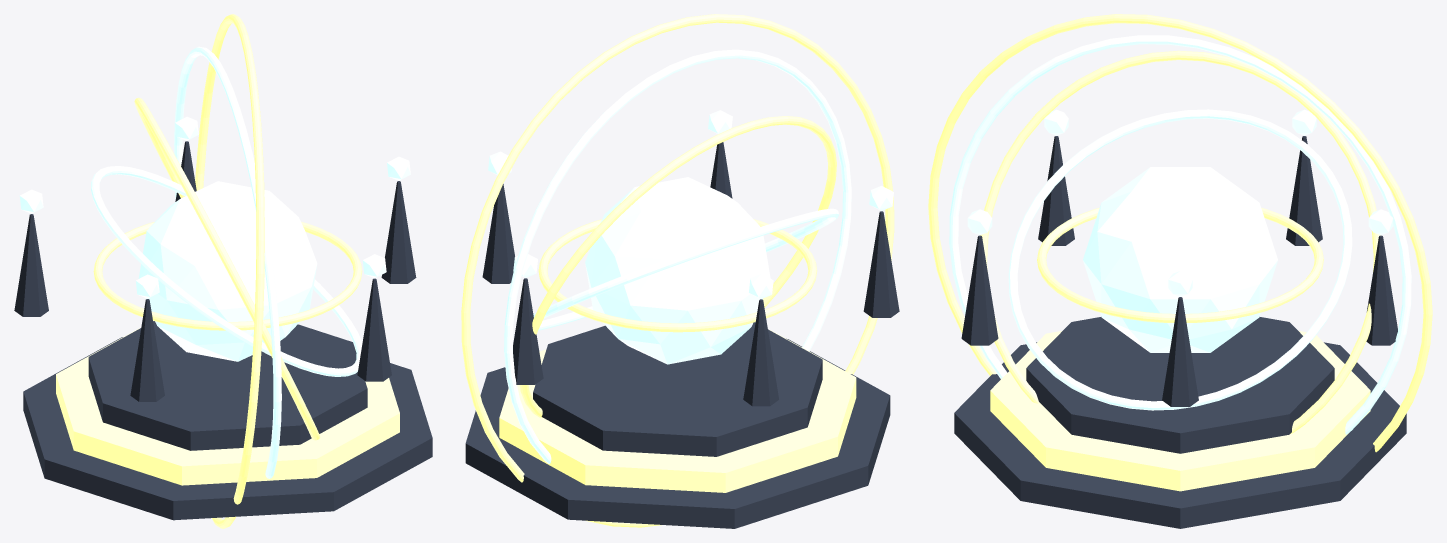
File: gpu-blender-v14.glb
3 renders of one model, left to right at view 1: azimuth 30°, elevation 25°; view 2: azimuth 150°, elevation 25°; view 3: azimuth 270°, elevation 25°, orthographic. The views are drawn at different scales.
Parts seen in each view (by area): view 1: Cylinder.002, Cylinder, SovereignCore_pod-smart-router, Cylinder.001, Torus.004, Torus.003, Torus.001, Torus, Torus.002, Cone.004, Cone.002, Cone.003 (+1 smaller); view 2: Cylinder.002, SovereignCore_pod-smart-router, Cylinder, Cylinder.001, Torus.004, Torus.003, Torus.002, Torus, Torus.001, Cone.002, Cone.003, Cone (+2 smaller); view 3: SovereignCore_pod-smart-router, Cylinder.002, Cylinder, Cylinder.001, Torus.004, Torus.001, Torus.003, Torus.002, Torus, Cone.004, Cone, Cone.001 (+2 smaller).
Boxes of the visible parts, box(x1,y1,x2,y2) form: Cylinder.002: box(88, 321, 367, 450); Cylinder: box(23, 337, 432, 520); SovereignCore_pod-smart-router: box(138, 181, 317, 361); Cylinder.001: box(56, 328, 399, 485); Torus.004: box(195, 14, 264, 528); Torus.003: box(174, 46, 281, 478); Torus.001: box(91, 166, 362, 376); Torus: box(93, 221, 362, 330); Torus.002: box(134, 97, 320, 440); Cone.004: box(357, 278, 391, 381); Cone.002: box(14, 214, 48, 316); Cone.003: box(130, 299, 164, 401); Cylinder.002: box(533, 322, 822, 456); SovereignCore_pod-smart-router: box(585, 177, 770, 364); Cylinder: box(465, 338, 890, 528); Cylinder.001: box(499, 330, 856, 492); Torus.004: box(461, 14, 894, 527); Torus.003: box(504, 49, 851, 463); Torus.002: box(519, 116, 836, 417); Torus: box(538, 219, 817, 332); Torus.001: box(533, 208, 838, 330); Cone.002: box(743, 299, 778, 406); Cone.003: box(863, 211, 899, 317); Cone: box(482, 184, 514, 283); SovereignCore_pod-smart-router: box(1083, 167, 1277, 352); Cylinder.002: box(1026, 317, 1334, 453); Cylinder: box(954, 342, 1406, 528); Cylinder.001: box(990, 330, 1370, 491); Torus.004: box(928, 14, 1432, 452); Torus.001: box(1008, 109, 1352, 410); Torus.003: box(949, 35, 1411, 434); Torus.002: box(980, 50, 1380, 433); Torus: box(1037, 207, 1323, 322); Cone.004: box(961, 235, 998, 345); Cone: box(1162, 297, 1198, 406); Cone.001: box(1366, 235, 1397, 345).
Bounding box in the file's own units: 4.41 × 5.33 × 4.9.
